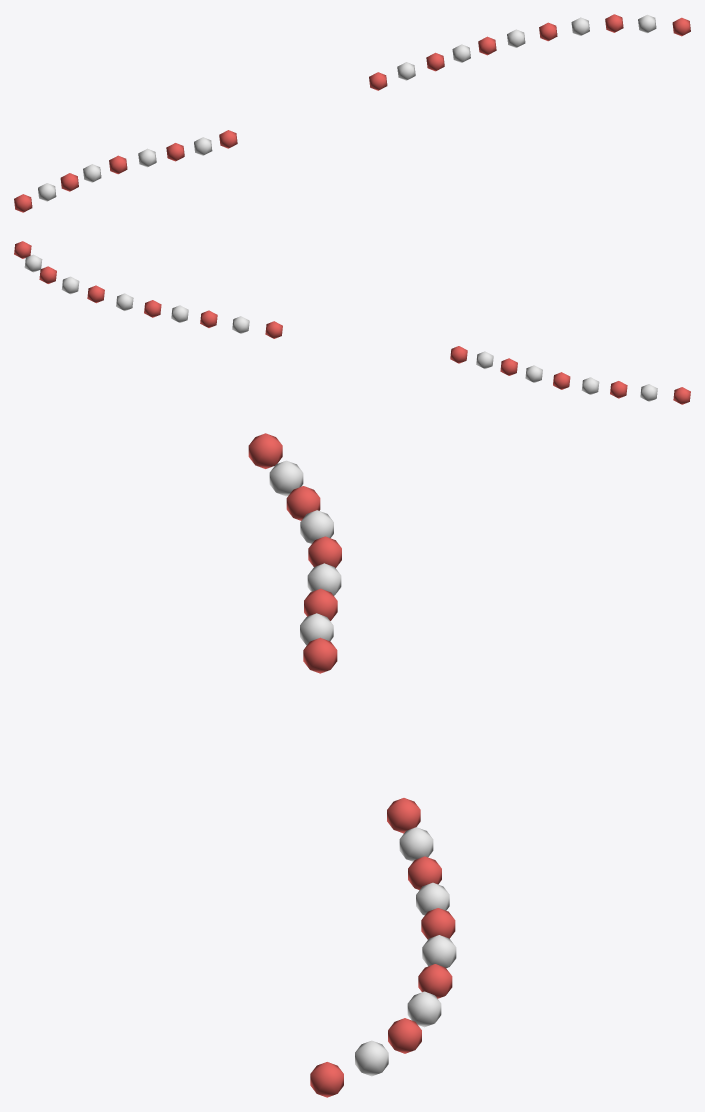
The model's file is buoys.fbx.
3 views of the same model, one above another, from view 1: azimuth 30°, elevation 25°; view 2: azimuth 150°, elevation 25°; view 3: azimuth 270°, elevation 25° (orthographic). The views are drawn at different scales.
Parts seen in each view (by area): view 1: buoys; view 2: buoys; view 3: buoys.
Boxes of the visible parts, x1=… form: buoys: x1=14, y1=14, x2=690, y2=212; buoys: x1=14, y1=241, x2=690, y2=404; buoys: x1=248, y1=433, x2=456, y2=1097.
Size of the model in its own units: 18194 by 474 by 2478.
